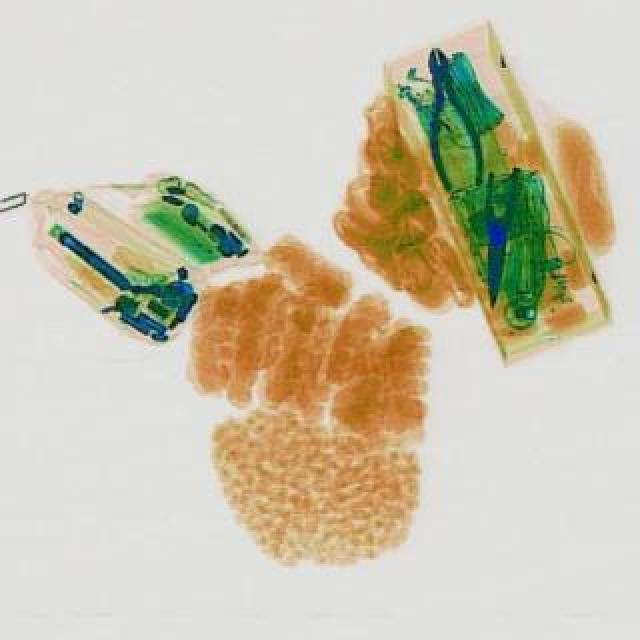wrench: (408, 42, 488, 190), (474, 164, 518, 304)
